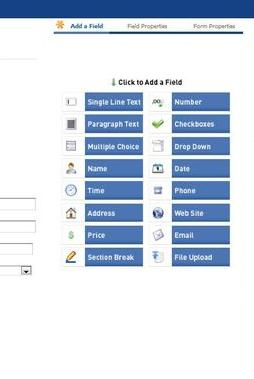button: (83, 91, 145, 112), (82, 113, 144, 134), (81, 135, 143, 156), (82, 157, 144, 178), (82, 180, 144, 201), (81, 202, 143, 223), (81, 224, 143, 245), (81, 246, 143, 267), (169, 90, 231, 111), (168, 113, 230, 134), (169, 136, 231, 157), (169, 158, 231, 179), (168, 179, 230, 200), (169, 202, 231, 223), (169, 224, 231, 245), (169, 247, 231, 268)
